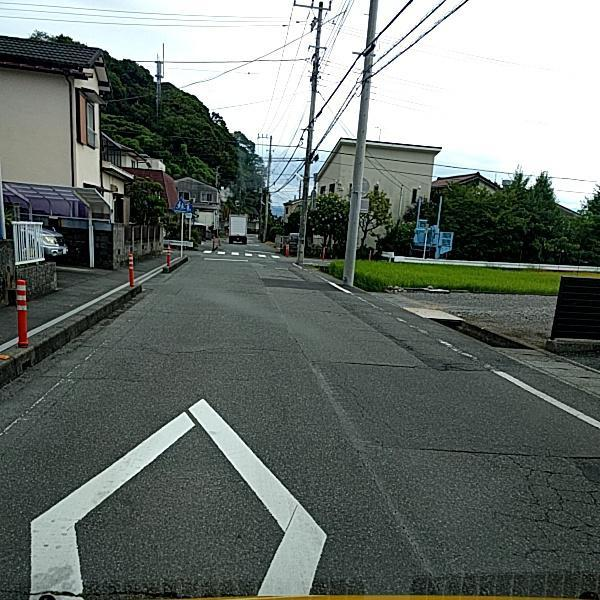D10: (87, 339, 184, 355), (69, 372, 175, 386)
D20: (474, 449, 599, 572)
